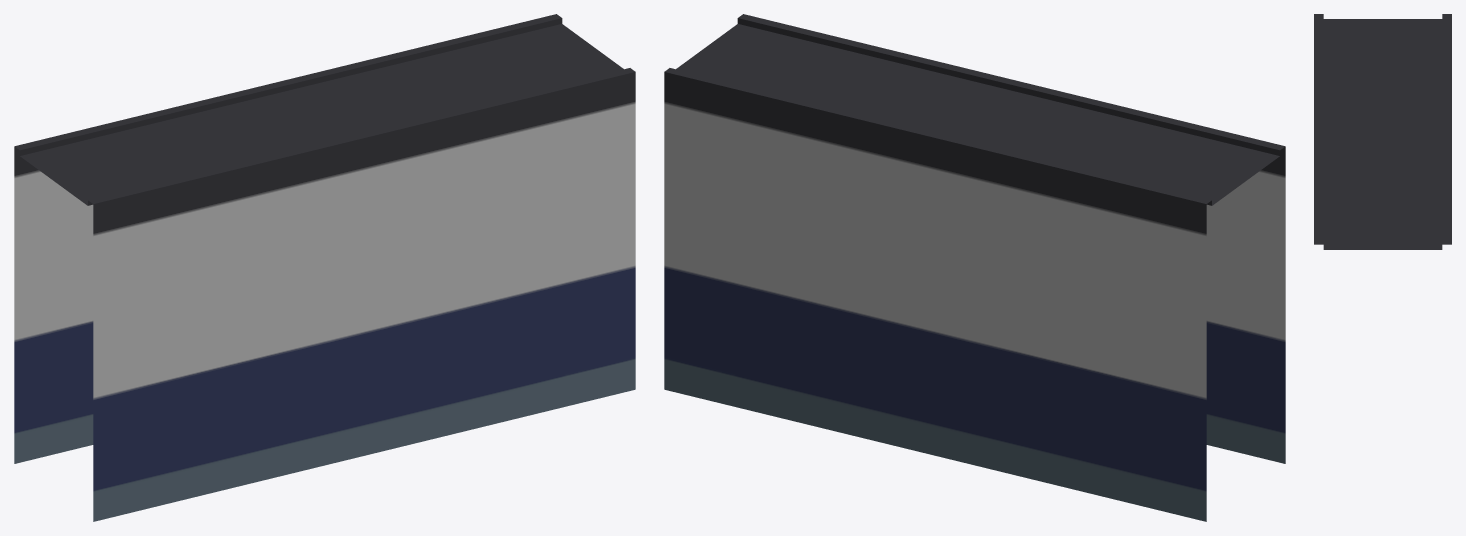
File: Parede1_A.fbx
The picture shows the model from 3 angles, left to right: view 1: azimuth 30°, elevation 25°; view 2: azimuth 150°, elevation 25°; view 3: azimuth 270°, elevation 25°; orthographic projection. The views are drawn at different scales.
Visible parts, largest first — view 1: Parede1_A; view 2: Parede1_A; view 3: Parede1_A.
Part boxes in pixels (<box>): Parede1_A: <box>14,14,635,521</box>; Parede1_A: <box>664,14,1285,521</box>; Parede1_A: <box>1314,14,1451,249</box>.
Bounding box in the file's own units: 527 × 295 × 133.
